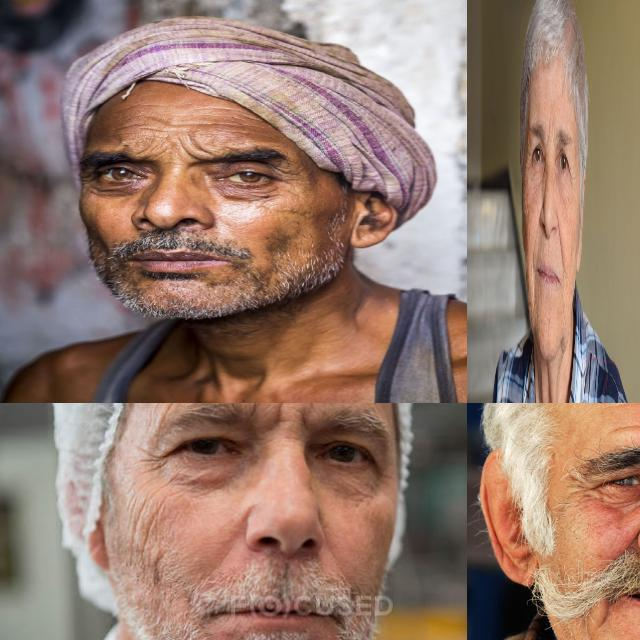crows_feet: (561, 468, 593, 504), (140, 447, 167, 473), (278, 164, 304, 190), (80, 170, 102, 196), (526, 144, 531, 172), (568, 165, 574, 187)
forehead: (173, 117, 236, 135), (118, 117, 168, 139), (609, 410, 640, 444), (195, 100, 242, 115), (119, 98, 165, 110), (154, 403, 179, 417)
frown_line: (180, 138, 211, 158), (298, 403, 317, 430), (268, 403, 288, 427), (142, 141, 166, 160), (243, 403, 259, 415), (552, 116, 556, 146), (546, 114, 550, 142)
gummy_smile: (615, 512, 640, 561), (557, 219, 564, 262), (532, 226, 538, 271)
masseter: (124, 492, 158, 534)
sad_smile: (596, 592, 614, 632), (532, 280, 537, 313), (560, 290, 566, 317)
smoker_lines: (537, 242, 542, 264)
